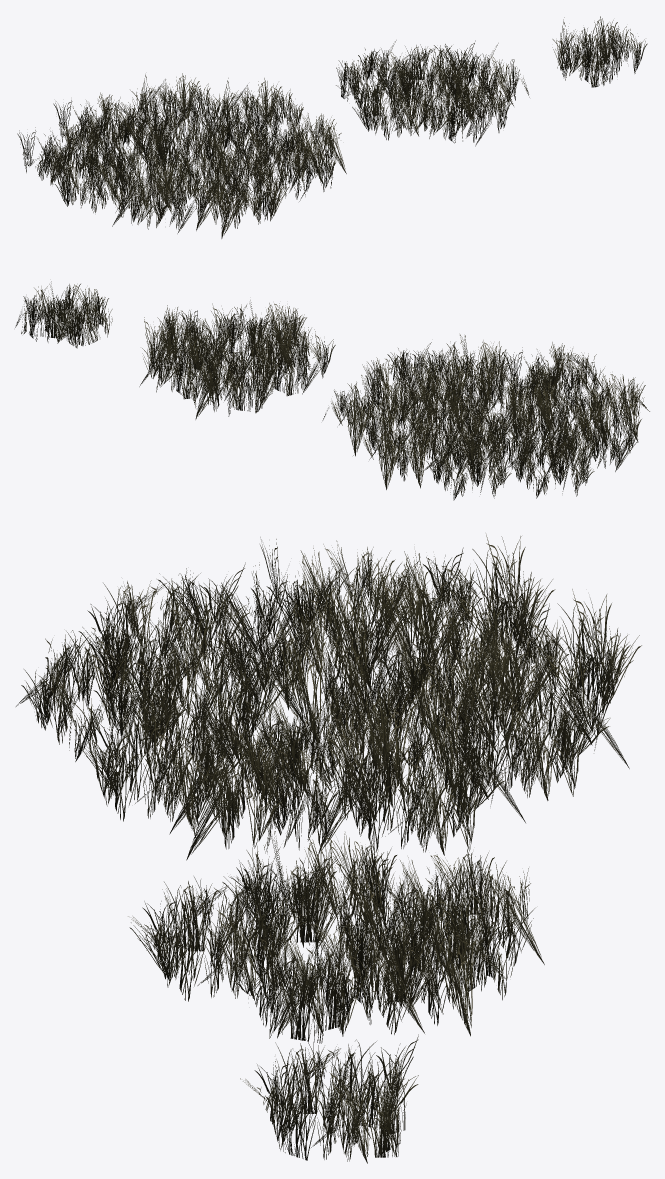
File: light.glb
3 views of the same model, one above another, from view 1: azimuth 30°, elevation 25°; view 2: azimuth 150°, elevation 25°; view 3: azimuth 270°, elevation 25° (orthographic). The views are drawn at different scales.
Visible parts, largest first — view 1: A01, A02, A03; view 2: A01, A02, A03; view 3: A01, A02, A03.
Part boxes in pixels (x1,y1,x2,y2): A01: (17,73,346,238); A02: (336,40,529,146); A03: (552,16,647,87); A01: (322,334,649,500); A02: (139,300,335,419); A03: (15,281,112,348); A01: (16,534,641,860); A02: (128,828,544,1043); A03: (240,1034,418,1163).
Bounding box in the file's own units: 15.89 × 1.37 × 7.38.
1 material, 1 textured.
